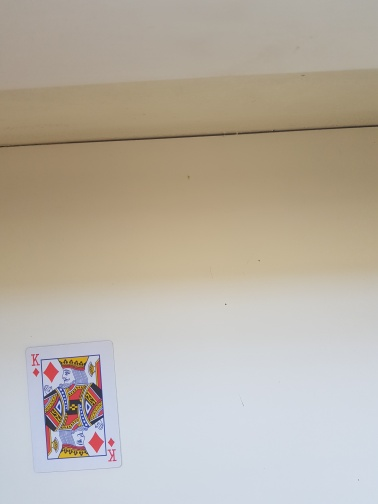king: (23, 339, 122, 474)
